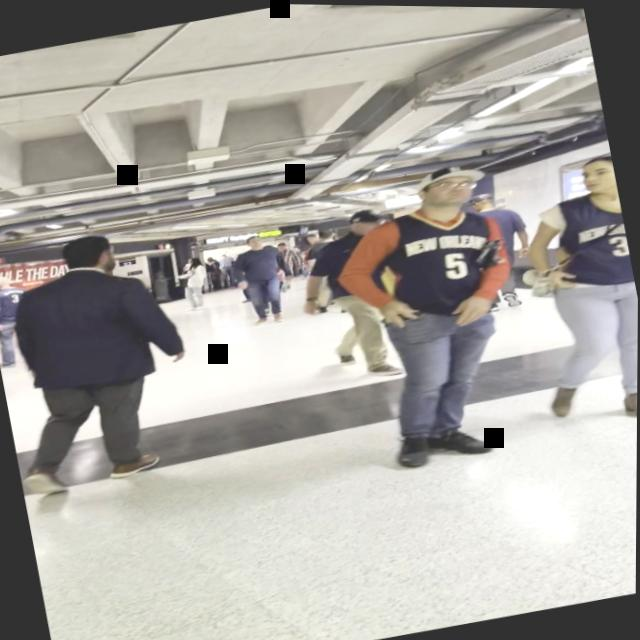NO-Mask: (431, 169, 479, 206), (578, 154, 617, 192), (358, 214, 386, 235), (248, 234, 268, 250)
